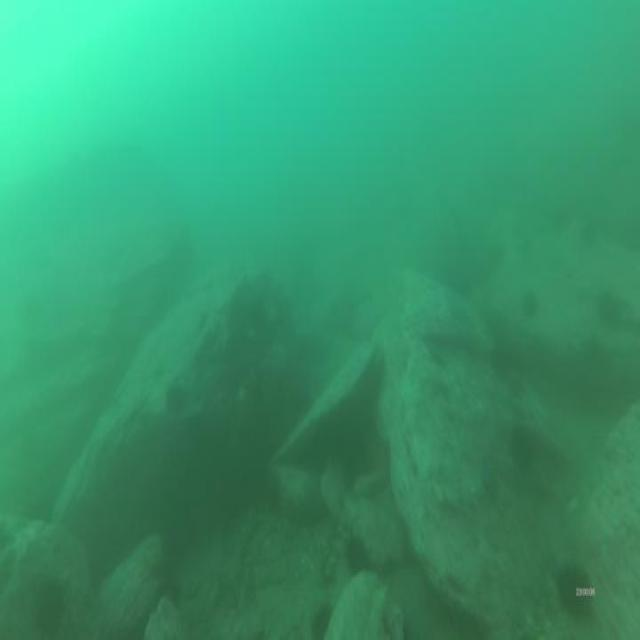echinus: (558, 558, 588, 615), (346, 540, 365, 572)
